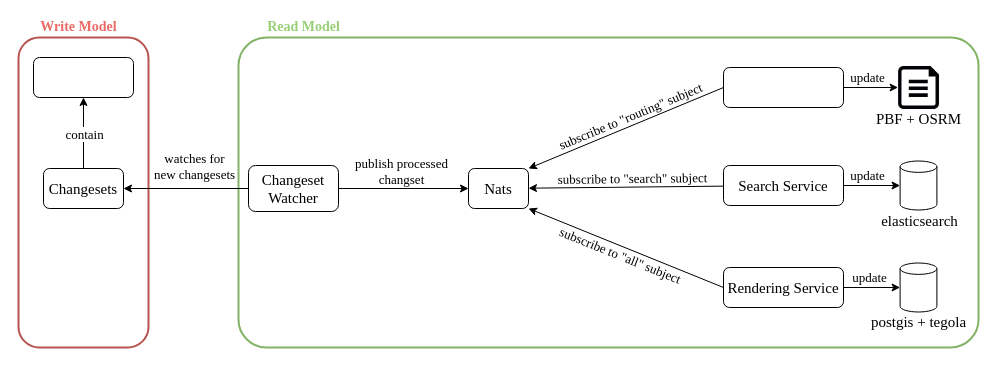
Image size: 996x365. Some labels were removed from this diagram. The shapes that lost their labels are listed below. From the top down, each one's centre as x and y in pixels, then its label:
At pixel 83 77: "OSM changes".
At pixel 783 87: "Routing Service".
